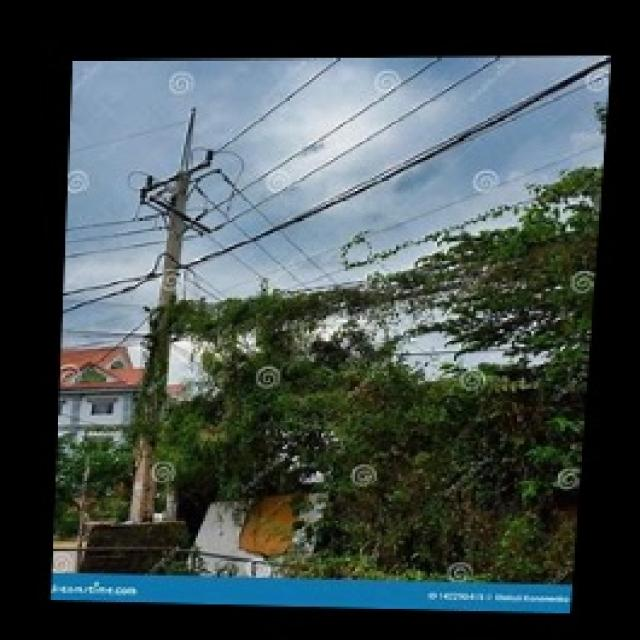critical vegetation: (161, 258, 583, 418)
